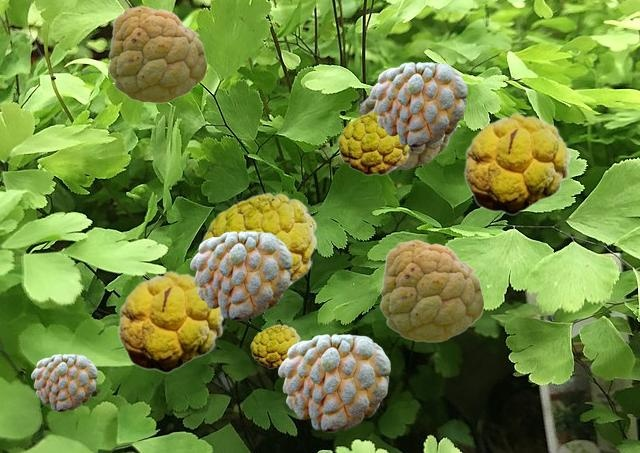atis: (201, 192, 316, 287), (463, 112, 570, 214), (117, 270, 224, 372), (278, 334, 389, 431), (379, 239, 483, 341), (107, 5, 206, 102), (190, 231, 291, 319), (370, 62, 466, 146), (359, 85, 455, 168), (337, 110, 410, 174), (31, 354, 96, 410), (250, 324, 299, 367)
